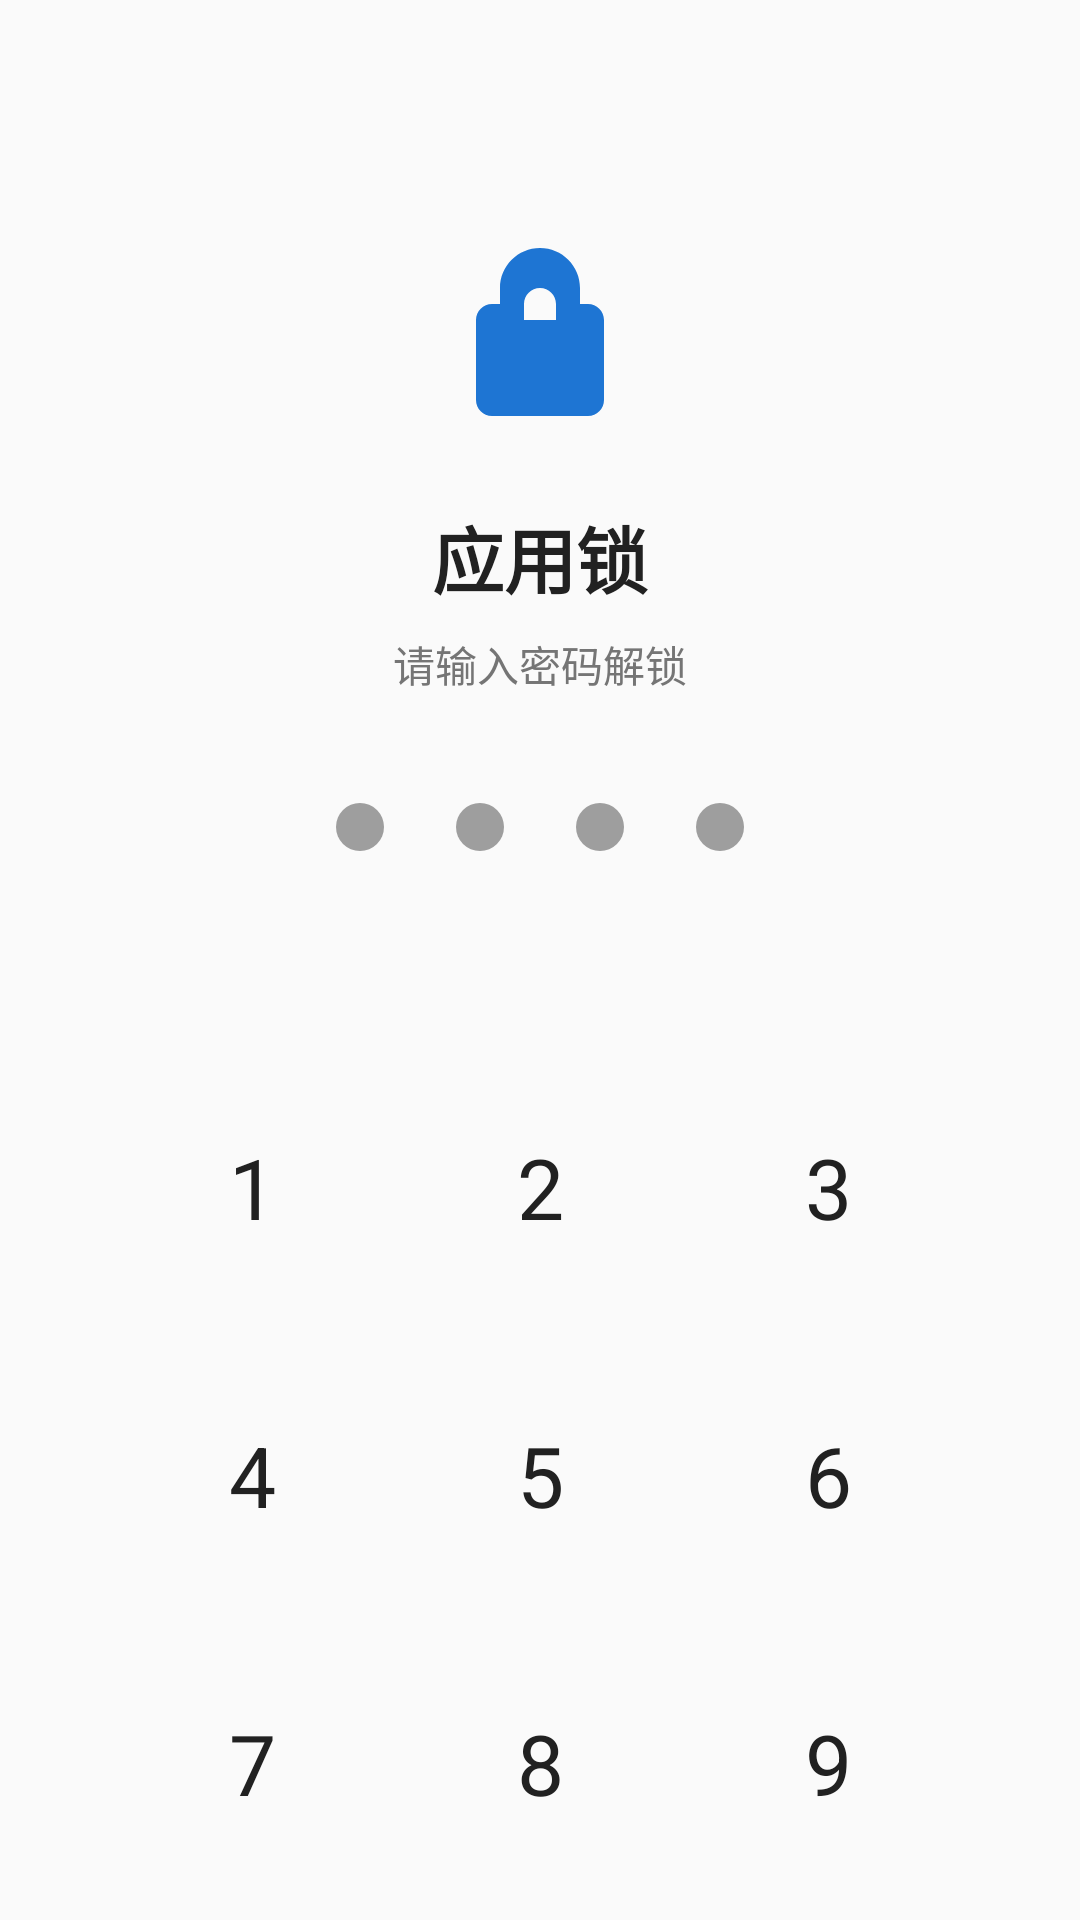

Icons on this 1080 × 1920 Android screen, each with its box as box(x1, y1, x2, y2):
lock: box(476, 248, 604, 416)
